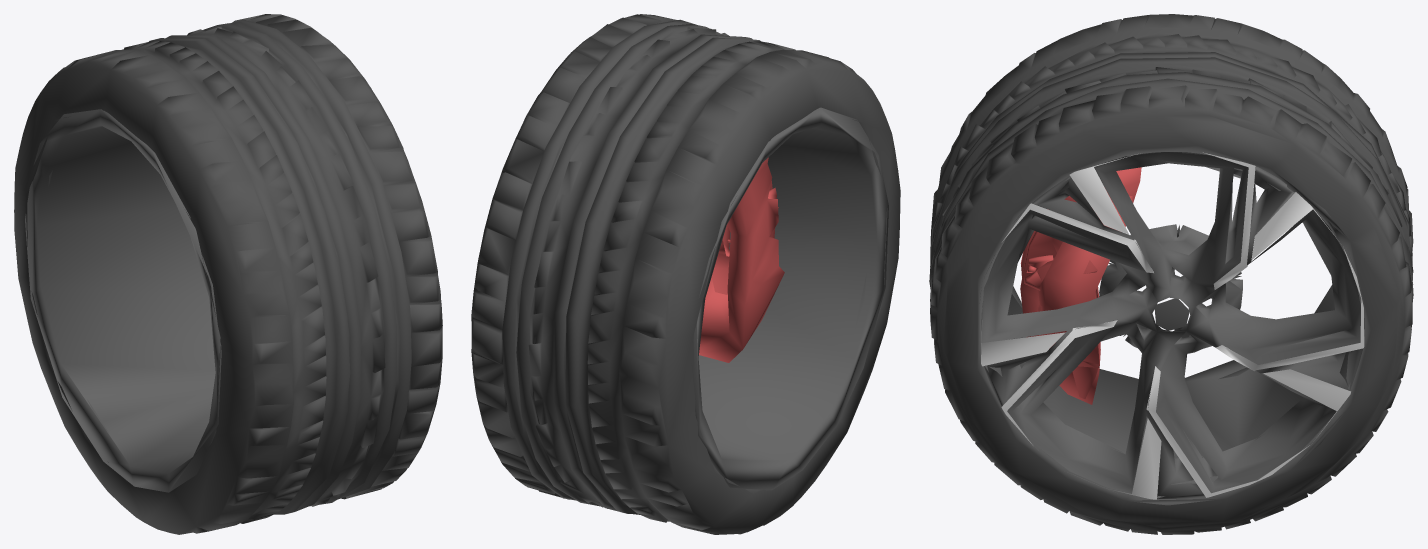
File: mesh_avis_small_wheel_simplified.dae
The picture shows the model from 3 angles, left to right: view 1: azimuth 30°, elevation 25°; view 2: azimuth 150°, elevation 25°; view 3: azimuth 270°, elevation 25°; orthographic projection.
Parts seen in each view (by area): view 1: brakecaliper_f001; view 2: brakecaliper_f001; view 3: brakecaliper_f001.
Part boxes in pixels (x1,y1,x2,y2): brakecaliper_f001: (14,14,442,534); brakecaliper_f001: (471,14,900,534); brakecaliper_f001: (929,14,1413,534).
Bounding box in the file's own units: 0.3255 × 0.6534 × 0.6541.
